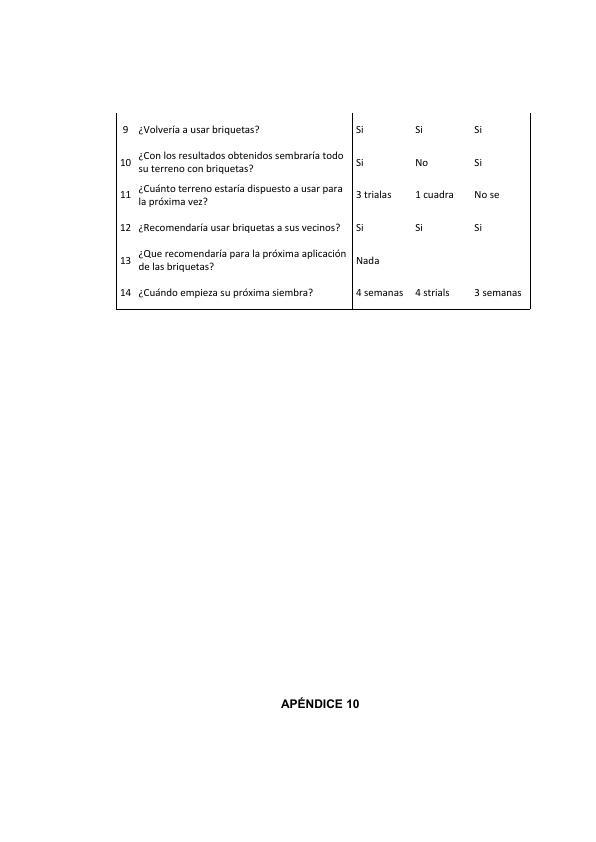table: (110, 109, 538, 321)
text: (273, 687, 366, 717)
